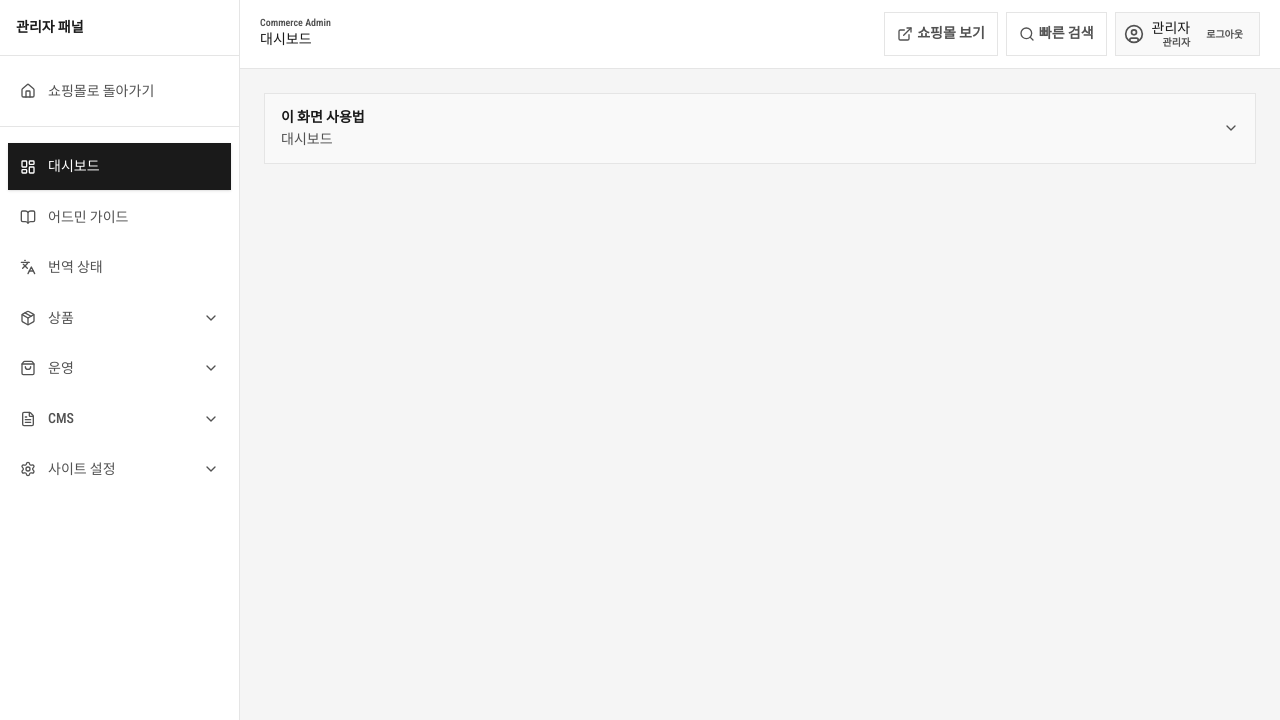
AdminSidebar › renders all nav menu items
This screenshot has width=1280, height=720.
Nav groups are collapsed by default — open each to reveal children
Click the button "상품": (120, 318) [8,295,231,341]
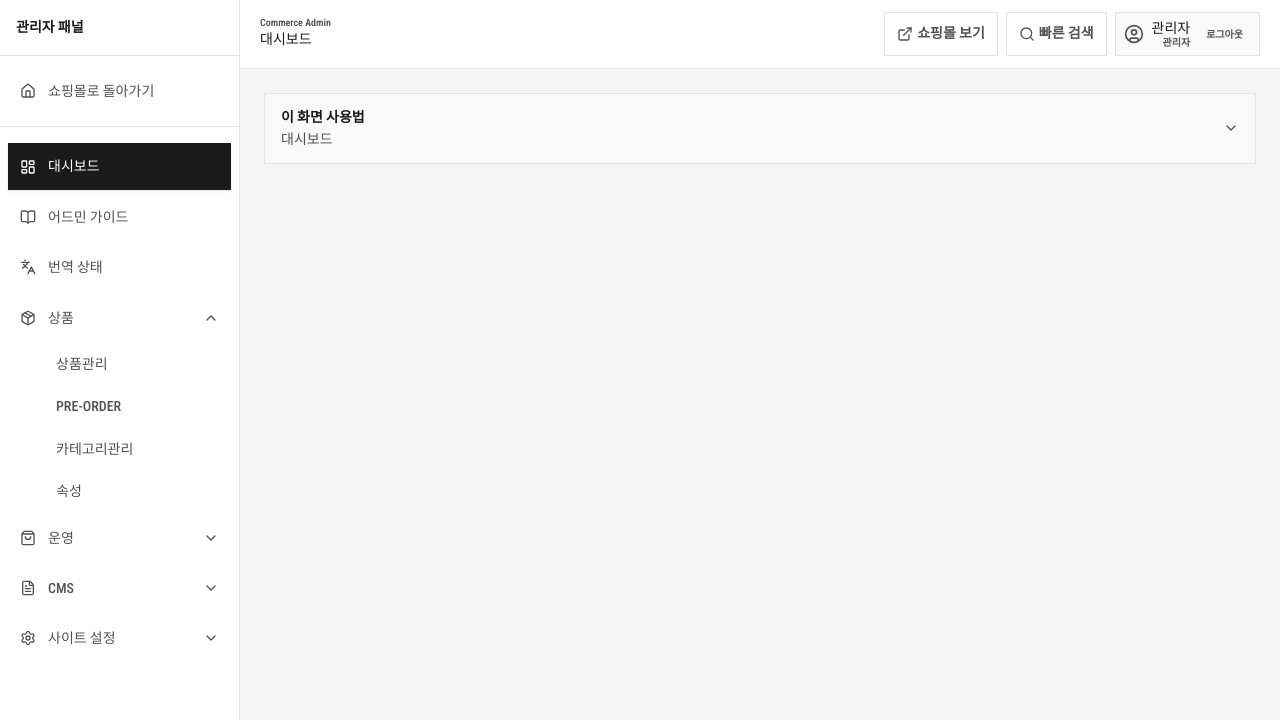
expect the text "상품관리" is shown: met, box [56,353,108,375]
expect the text "카테고리관리" is shown: met, box [56,438,133,460]
Click the button "운영": (120, 538) [8,514,231,561]
(page scrolled)
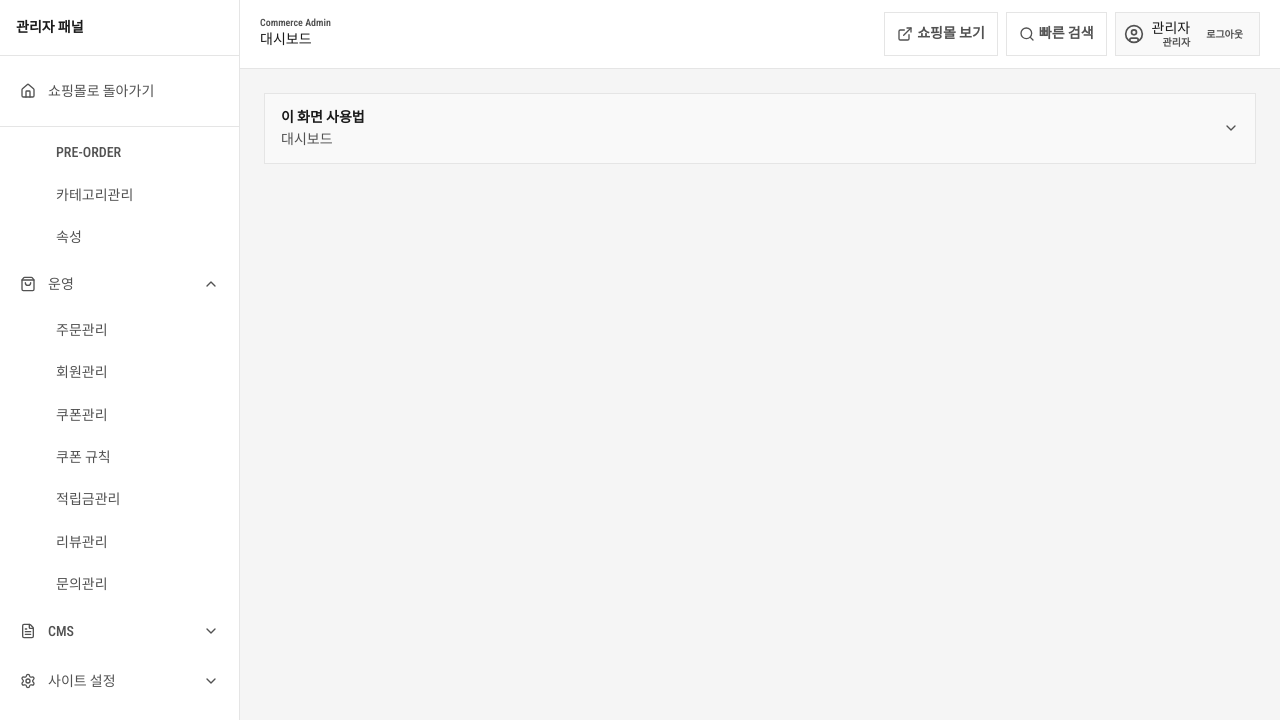
expect the text "주문관리" is shown: met, box [56,319,108,341]
expect the text "회원관리" is shown: met, box [56,361,108,384]
expect the text "쿠폰관리" is shown: met, box [56,404,108,426]
Click the button "CMS": (120, 631) [8,608,231,654]
(page scrolled)
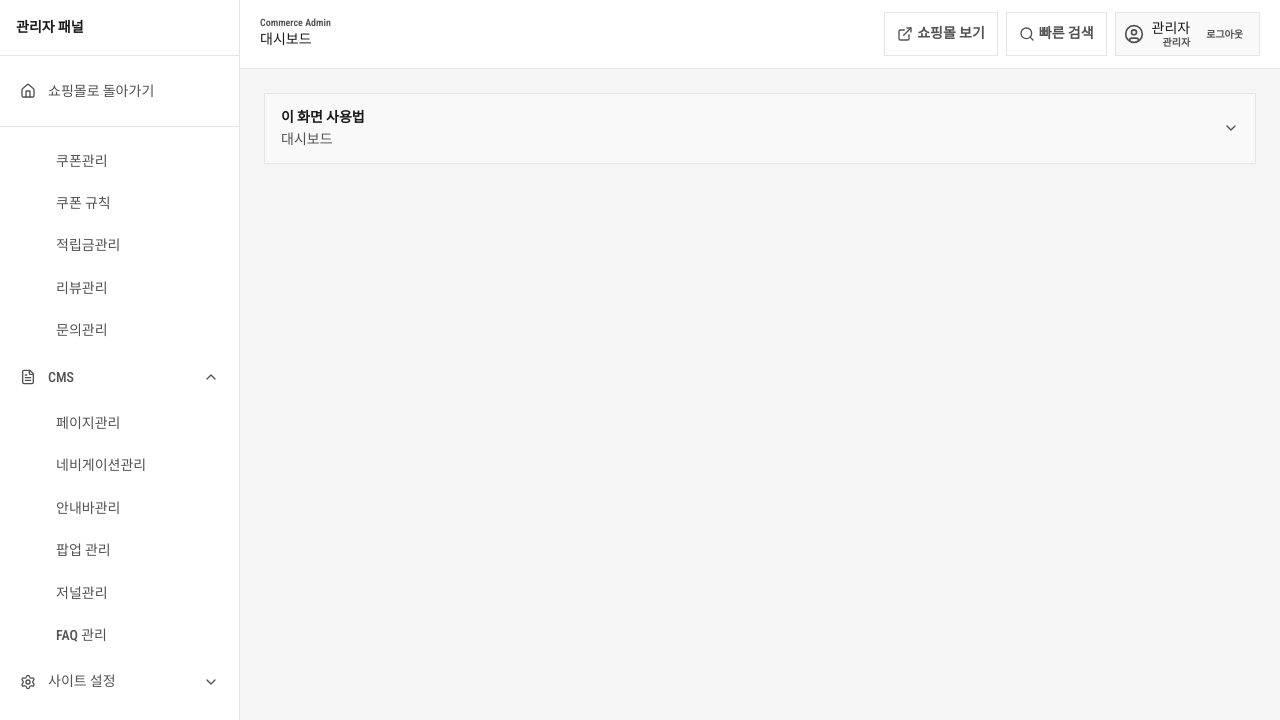
expect the text "페이지관리" is shown: met, box [56,412,120,434]
expect the text "네비게이션관리" is shown: met, box [56,454,146,477]
expect the text "안내바관리" is shown: met, box [56,497,120,519]
